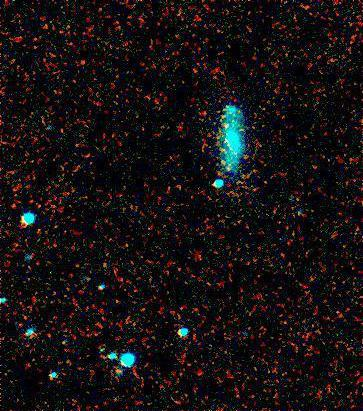star: (213, 113, 243, 143)
